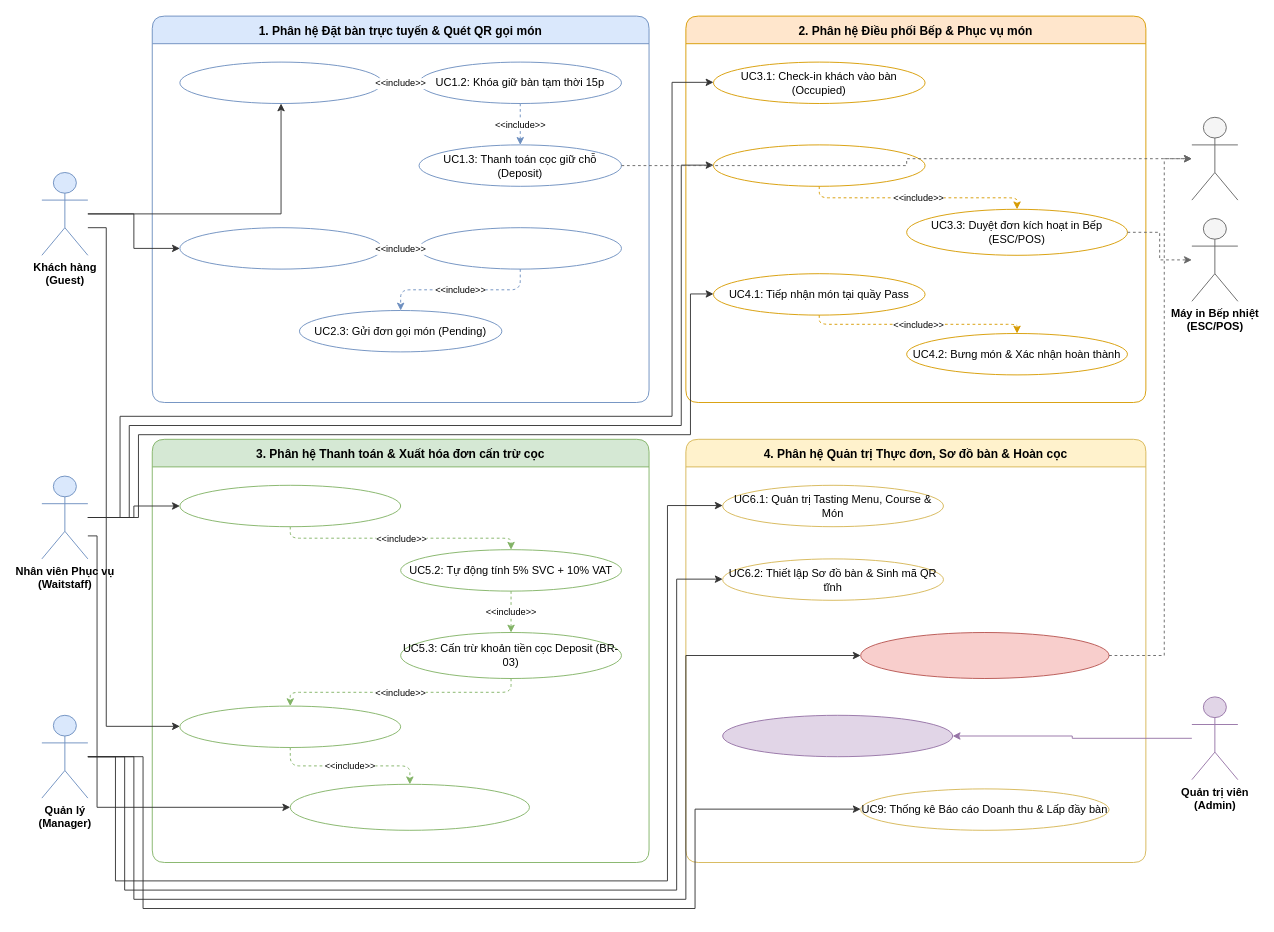
This 1274x932 diagram has some shape labels left out. Here are the shapes that lost their labels. From the top down, the centre of each, then its label:
At pixel 280 82: "UC1.1: Tra cứu sơ đồ bàn trống".
At pixel 819 165: "UC3.2: Xem đơn QR & Đối soát dị ứng".
At pixel 1214 158: "Cổng thanh toán VNPAY".
At pixel 280 248: "UC2.1: Quét mã QR truy cập E-Menu".
At pixel 519 248: "UC2.2: Chọn món & Nhập ghi chú dị ứng".
At pixel 290 505: "UC5.1: Tính tổng tiền món thực dùng (Subtotal)".
At pixel 984 655: "UC7: Duyệt hoàn cọc thủ công ngoại lệ (Override)".
At pixel 290 726: "UC5.4: In Hóa đơn tạm tính ra bàn đối soát".
At pixel 837 735: "UC8: Quản trị Người dùng & Phân quyền (RBAC)".
At pixel 409 806: "UC5.5: Xác nhận thanh toán & Chuyển bàn Cleaning".
